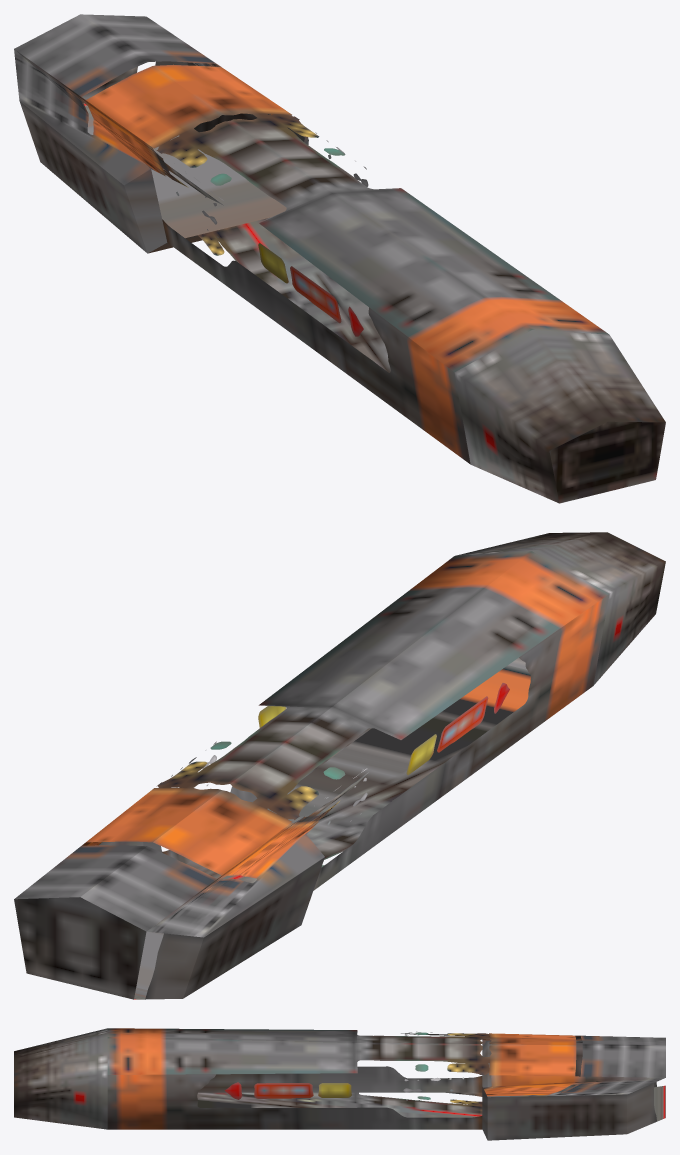
3 renders of one model, top to bottom at view 1: azimuth 30°, elevation 25°; view 2: azimuth 150°, elevation 25°; view 3: azimuth 270°, elevation 25°, orthographic. The views are drawn at different scales.
Parts seen in each view (by area): view 1: PulsarGunUV; view 2: PulsarGunUV; view 3: PulsarGunUV.
Part boxes in pixels (x1,y1,x2,y2): PulsarGunUV: (14,14,665,503); PulsarGunUV: (14,532,665,999); PulsarGunUV: (14,1028,665,1140).
Bounding box in the file's own units: 3.61 × 2.43 × 17.85.
